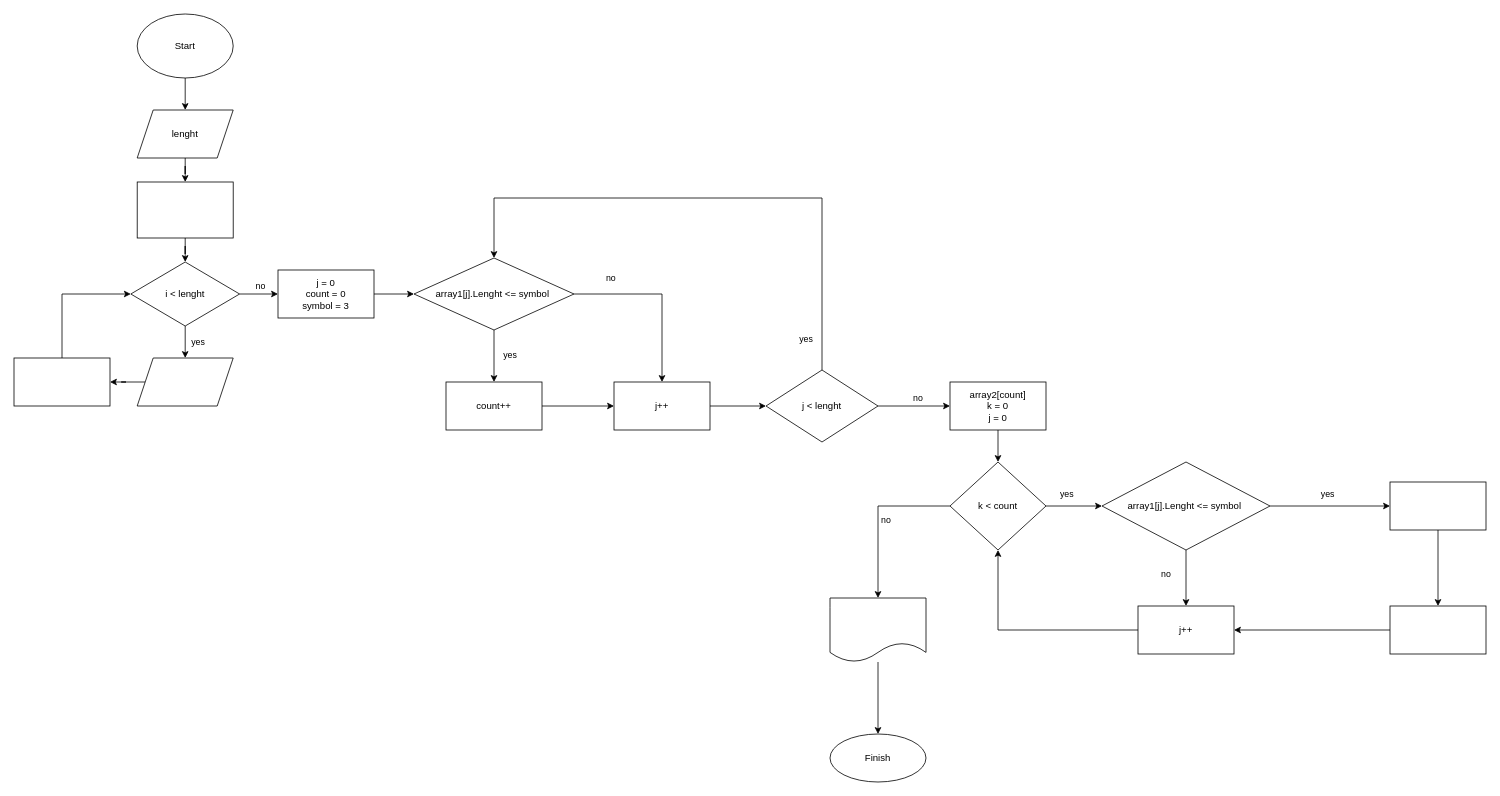
The diagram is 1500 pixels wide and 796 high, and some of its shapes have lost their labels. The shapes that lost their labels are listed below. From the top down, each one's centre as x and y in pixels, then its label:
pixel 184 209: array1[lenght] i = 0
pixel 61 381: i++
pixel 184 381: array1[i]
pixel 1437 505: array2[k] = array1[j]
pixel 877 629: array2[]
pixel 1437 629: k++
